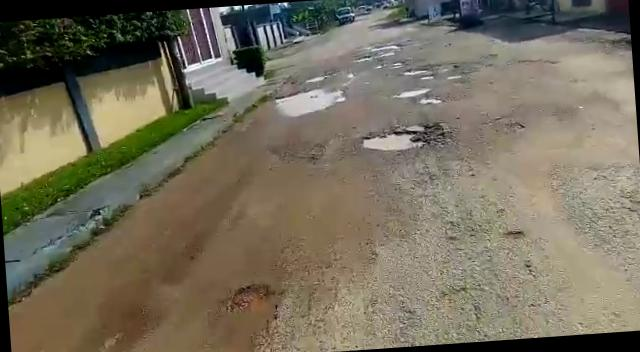pothole: (358, 121, 446, 155), (274, 85, 346, 118), (228, 280, 279, 316), (489, 118, 528, 134), (392, 87, 432, 98), (403, 66, 440, 76), (417, 97, 442, 106)
